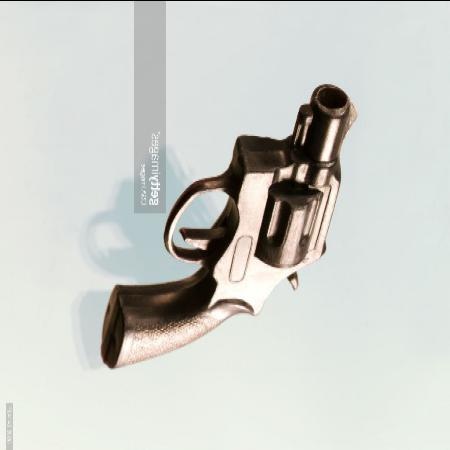Pistol: (99, 78, 361, 372)
